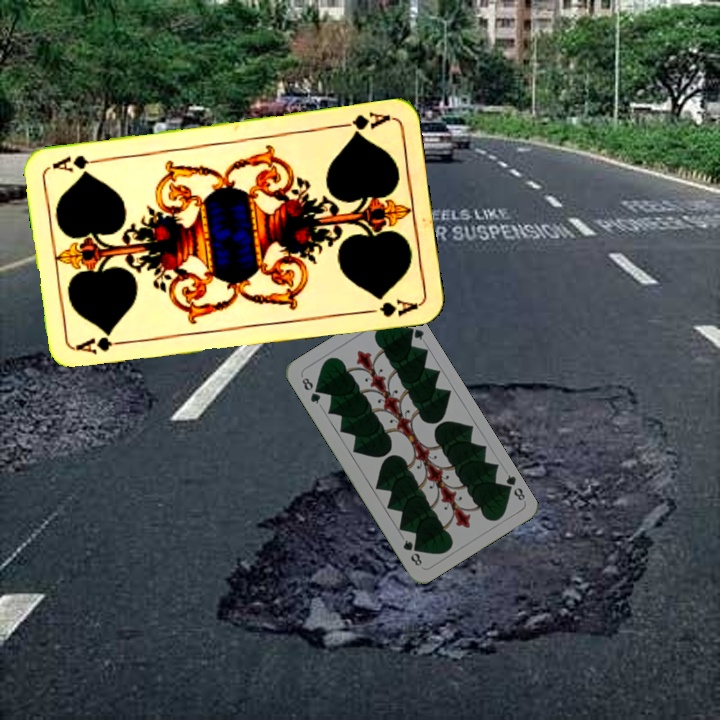G8: (499, 470, 528, 503), (298, 373, 323, 407)
GA: (334, 108, 393, 138), (72, 333, 131, 358)
